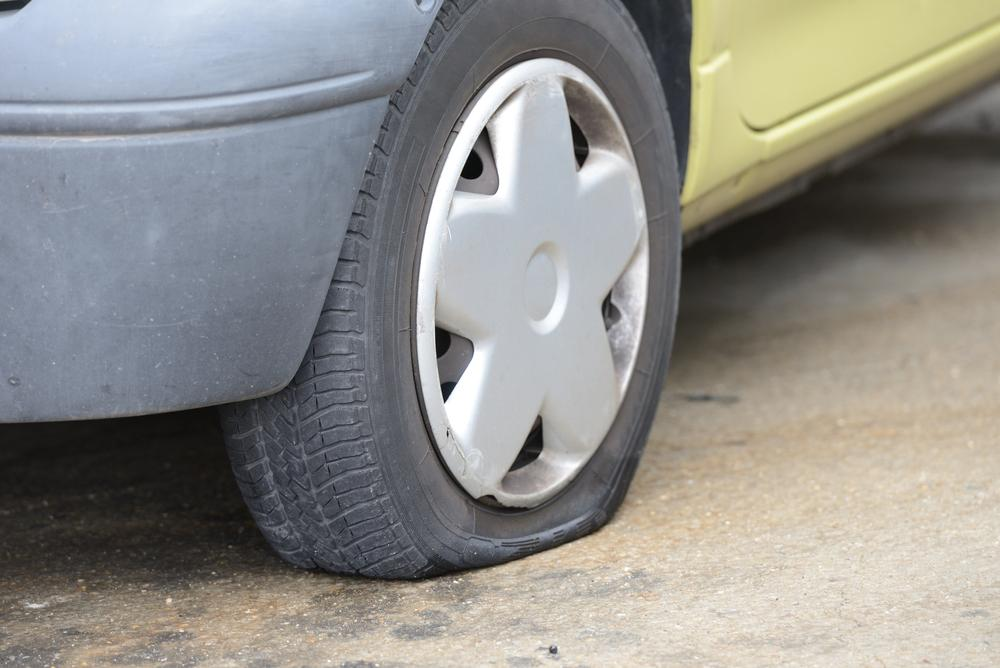tire flat: (220, 0, 682, 580)
